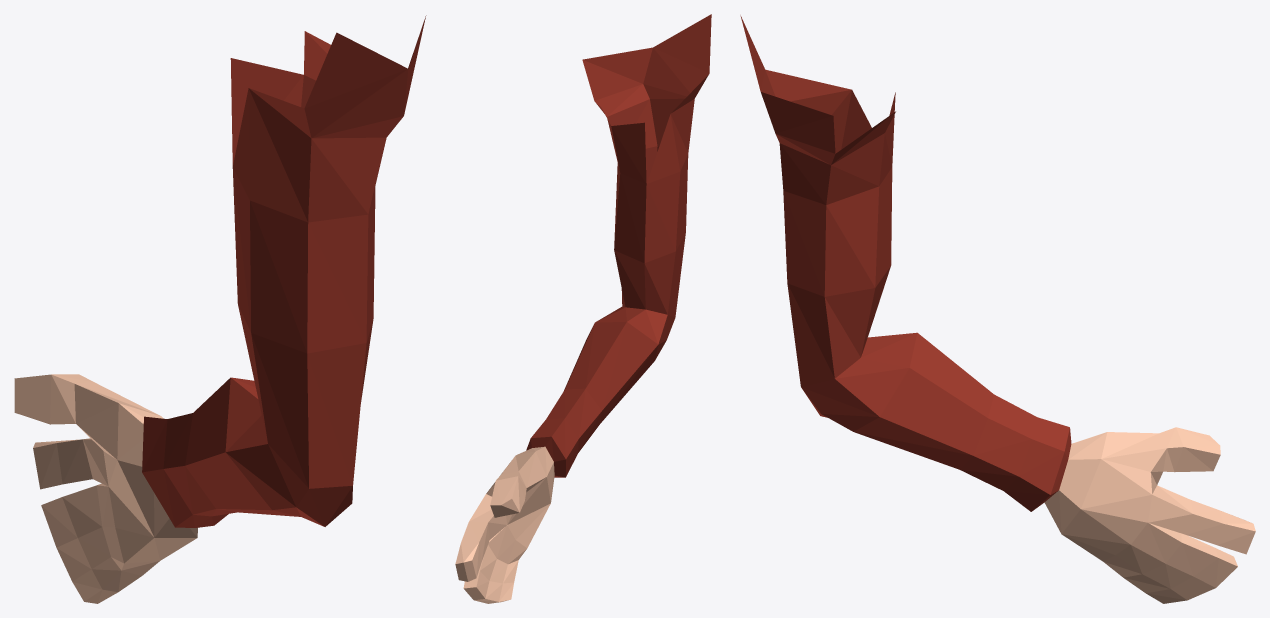
The model's file is Son_01_ArmR_61.obj.
3 views of the same model, side by side, from view 1: azimuth 30°, elevation 25°; view 2: azimuth 150°, elevation 25°; view 3: azimuth 270°, elevation 25° (orthographic). The views are drawn at different scales.
Parts seen in each view (by area): view 1: Son_01_ArmR_61; view 2: Son_01_ArmR_61; view 3: Son_01_ArmR_61.
Boxes of the visible parts, x1,y1,x2,y2 form: Son_01_ArmR_61: [14, 15, 426, 603]; Son_01_ArmR_61: [455, 14, 711, 603]; Son_01_ArmR_61: [740, 15, 1255, 603].
Bounding box in the file's own units: 0.1573 × 0.7024 × 0.5771.
1 material, 1 textured.
